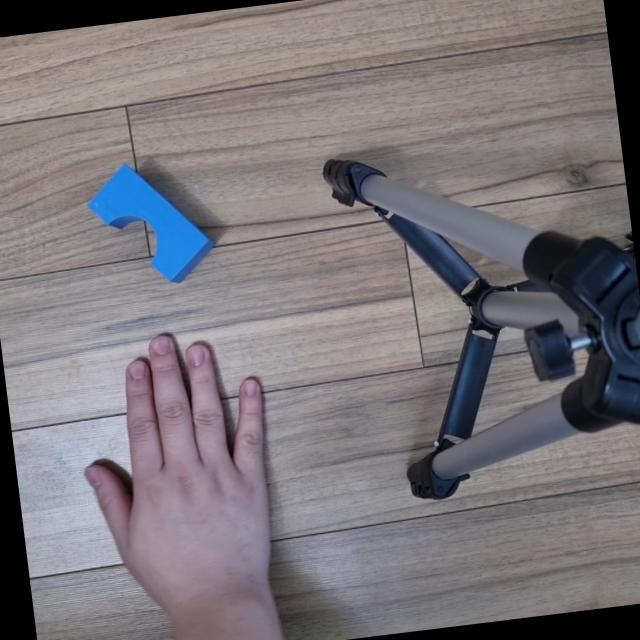block: (81, 142, 228, 300)
hand: (69, 316, 312, 616)
